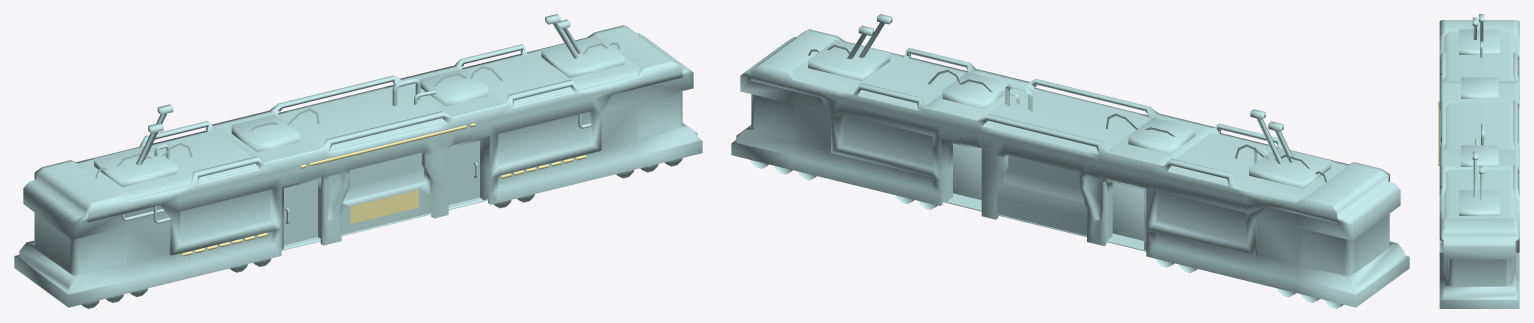
File: ArrivaTrain.fbx
The picture shows the model from 3 angles, left to right: view 1: azimuth 30°, elevation 25°; view 2: azimuth 150°, elevation 25°; view 3: azimuth 270°, elevation 25°; orthographic projection. The views are drawn at different scales.
Visible parts, largest first — view 1: Train, L_door, R_door; view 2: Train; view 3: Train, FL_top1, BR_top, BL_top, FL_top.
Boxes of the visible parts, <box> form: Train: <box>14,25,702,307</box>; L_door: <box>284,180,317,244</box>; R_door: <box>448,140,479,204</box>; Train: <box>731,29,1409,307</box>; Train: <box>1438,20,1519,308</box>; FL_top1: <box>1472,151,1477,197</box>; BR_top: <box>1479,165,1484,199</box>; BL_top: <box>1479,14,1484,42</box>; FL_top: <box>1472,17,1477,39</box>.
Bounding box in the file's own units: 24.38 × 5.82 × 3.67.
